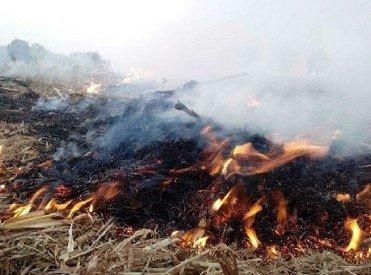fire: (183, 118, 358, 255), (2, 181, 119, 218), (82, 64, 154, 95)
